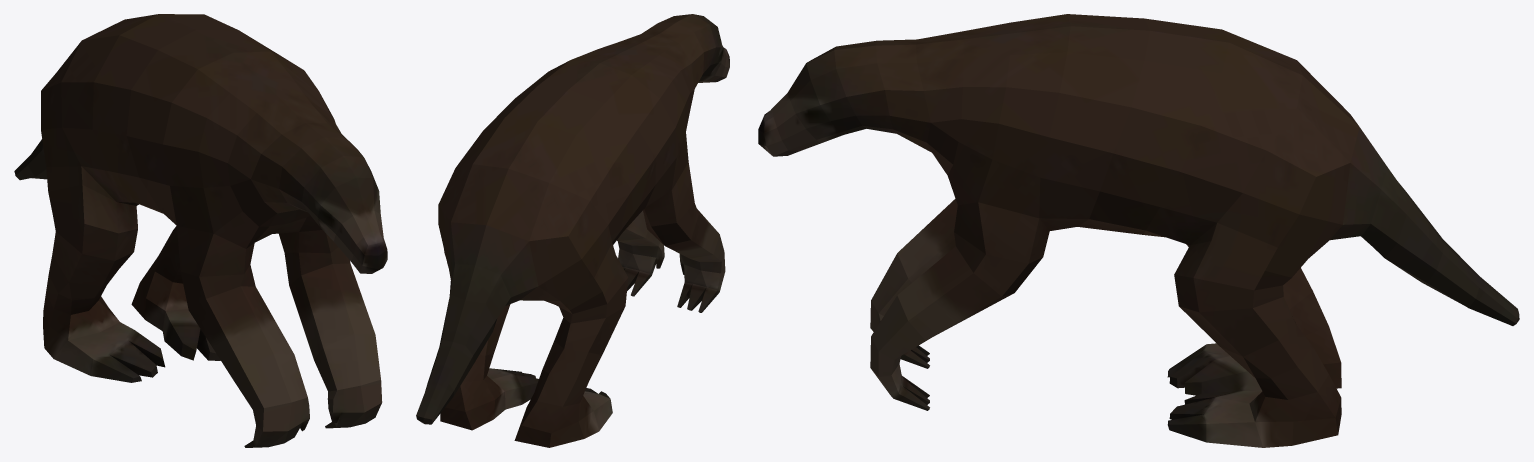
Rendered from animals-ground-sloth-116.glb.
The picture shows the model from 3 angles, left to right: view 1: azimuth 30°, elevation 25°; view 2: azimuth 150°, elevation 25°; view 3: azimuth 270°, elevation 25°; orthographic projection. The views are drawn at different scales.
Visible parts, largest first — view 1: GroundSloth_mesh; view 2: GroundSloth_mesh; view 3: GroundSloth_mesh.
Boxes of the visible parts, bbox=[...] form: GroundSloth_mesh: bbox=[14, 14, 387, 447]; GroundSloth_mesh: bbox=[416, 14, 729, 447]; GroundSloth_mesh: bbox=[758, 14, 1519, 447].
Size of the model in its own units: 2.78 by 4.91 by 9.04.
1 material, 1 textured.
